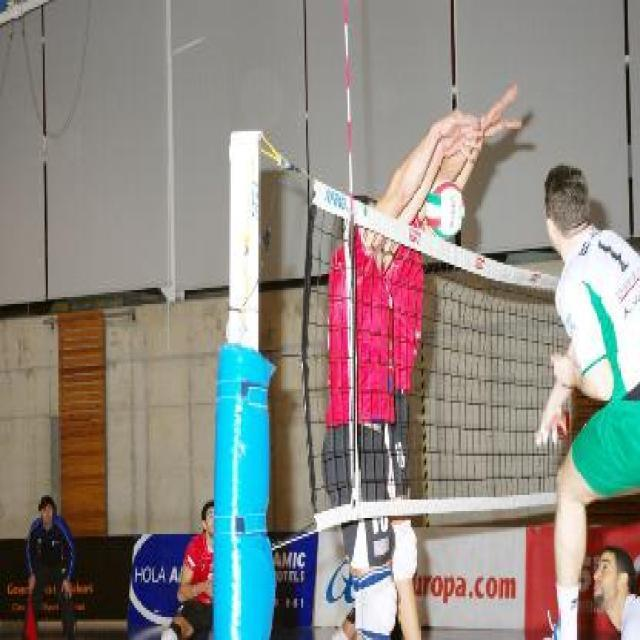volleyball: (424, 182, 465, 240)
